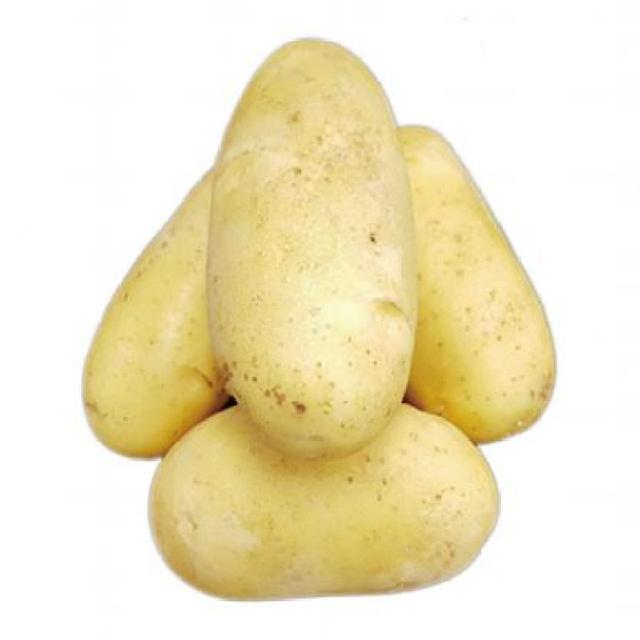Potato: (203, 38, 419, 463), (147, 405, 502, 604), (395, 125, 557, 448), (81, 168, 234, 461)
